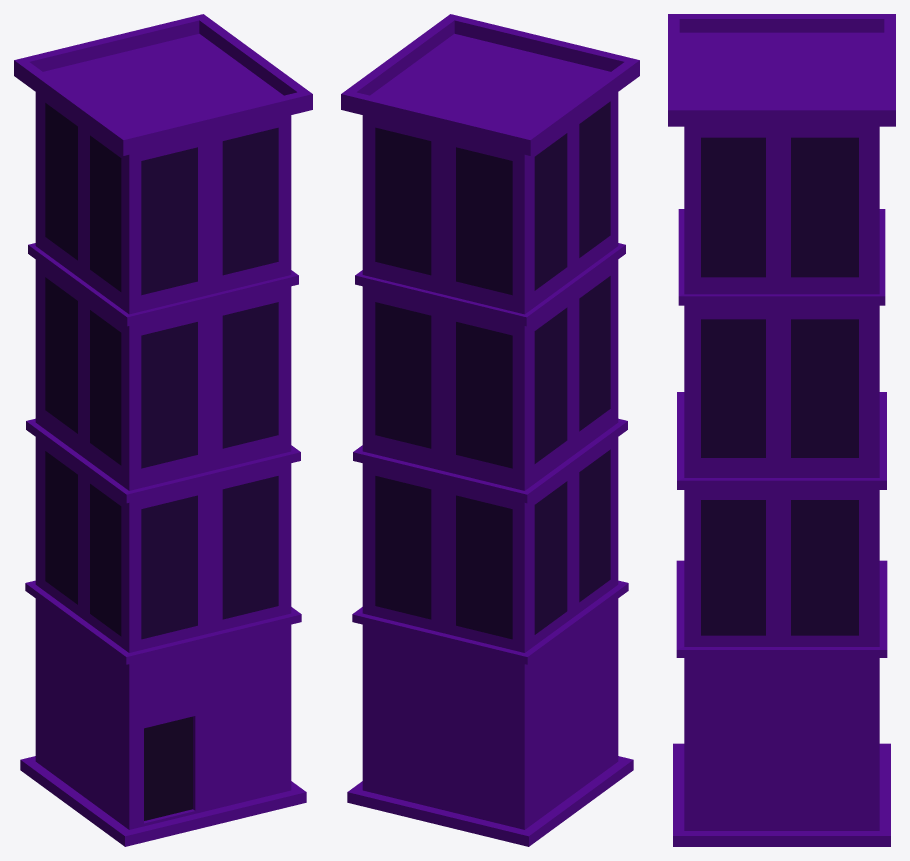
Rendered from Morado Edificio 1.glb.
3 views of the same model, side by side, from view 1: azimuth 30°, elevation 25°; view 2: azimuth 150°, elevation 25°; view 3: azimuth 270°, elevation 25° (orthographic). The views are drawn at different scales.
Parts seen in each view (by area): view 1: Cube.003; view 2: Cube.003; view 3: Cube.003.
Boxes of the visible parts, left/top/right/bottom form: Cube.003: left=14, top=14, right=312, bottom=846; Cube.003: left=341, top=14, right=639, bottom=846; Cube.003: left=668, top=14, right=895, bottom=846.
Size of the model in its own units: 13.84 by 49.53 by 13.84.
